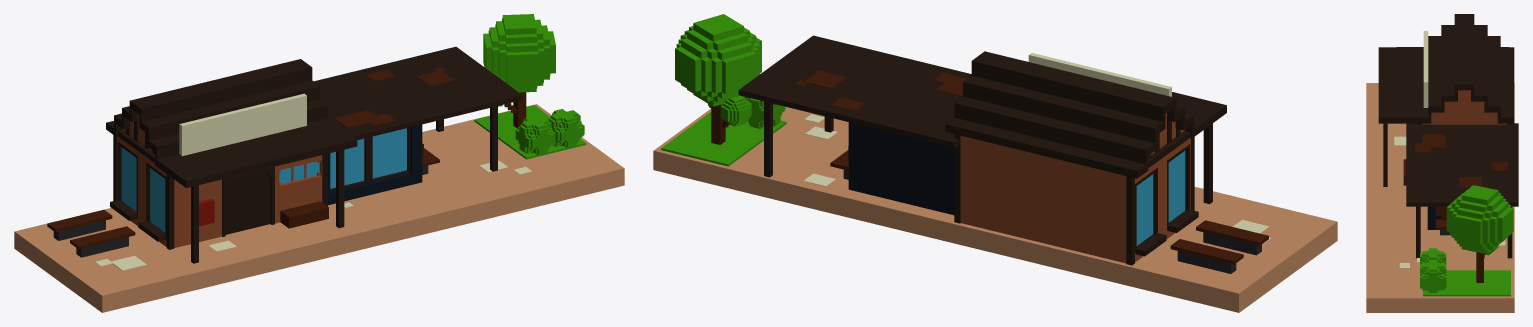
The model's file is Train_station.FBX.
The picture shows the model from 3 angles, left to right: view 1: azimuth 30°, elevation 25°; view 2: azimuth 150°, elevation 25°; view 3: azimuth 270°, elevation 25°; orthographic projection. The views are drawn at different scales.
Parts seen in each view (by area): view 1: Box079, Train_station, Box092, train_main_part_010, Box112, Box088, Box091, Box119, Box124, Box123, Box132, Box113 (+8 smaller); view 2: Box079, Train_station, Box088, Box092, Box091, train_main_part_010, Box119, Box112, Box117, Box113, Box105, Box089 (+7 smaller); view 3: Box079, Train_station, Box092, train_main_part_010, Box119, Box123, Box112, Box088, Box124, Box125, Box090, Box115 (+8 smaller).
Boxes of the visible parts, x1,y1,x2,y2 form: Box079: (14,104,624,312); Train_station: (106,59,410,238); Box092: (314,46,522,139); train_main_part_010: (483,14,555,92); Box112: (179,93,306,156); Box088: (117,136,221,247); Box091: (328,124,422,205); Box119: (474,105,586,159); Box124: (515,116,555,155); Box123: (548,109,584,148); Box132: (280,201,328,228); Box113: (70,226,135,248); Box079: (653,106,1337,312); Train_station: (945,51,1226,253); Box088: (960,135,1190,263); Box092: (738,35,971,147); Box091: (848,122,954,215); train_main_part_010: (675,14,761,106); Box119: (661,112,786,166); Box112: (1028,53,1171,96); Box117: (1170,239,1243,264); Box113: (1196,220,1268,245); Box105: (1126,176,1134,265); Box089: (1203,123,1212,204); Box079: (1366,83,1514,312); Train_station: (1378,14,1514,123); Box092: (1406,123,1518,206); train_main_part_010: (1446,185,1513,254); Box119: (1423,270,1510,296); Box123: (1420,260,1446,292); Box112: (1423,31,1428,107); Box088: (1422,120,1507,124); Box124: (1420,248,1446,265); Box125: (1422,134,1444,148); Box090: (1383,123,1387,186); Box115: (1435,206,1446,229).
Bounding box in the file's own units: 306 × 80.36 × 91.47.
